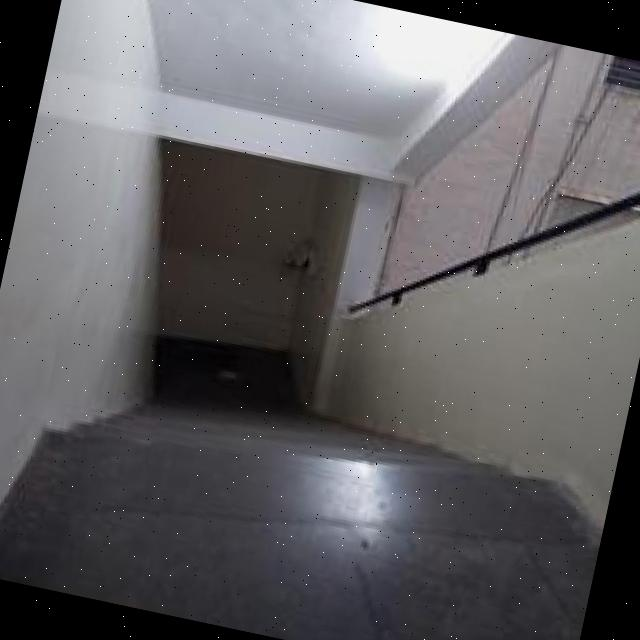stairs: (0, 345, 611, 640)
